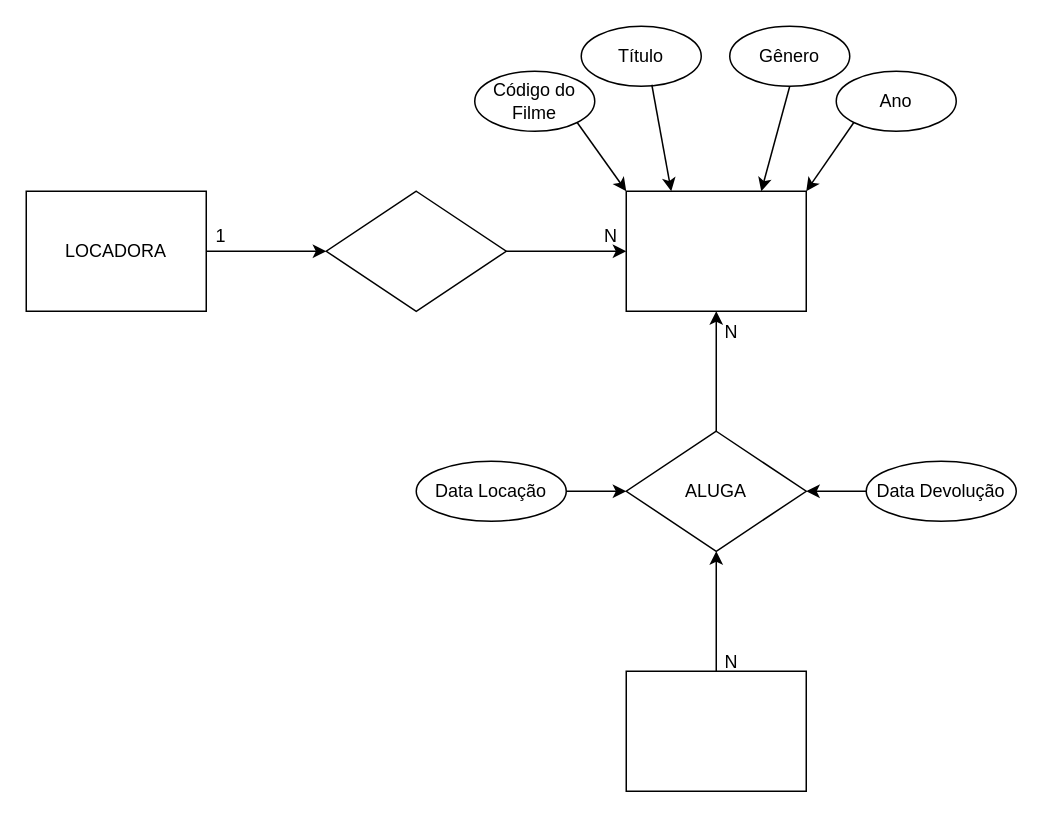
This 1043x818 diagram has some shape labels left out. The centre of each missing label's shape, as x and y in pixels:
"CLIENTE" goes at (x=715, y=730).
"FILME" goes at (x=715, y=250).
"POSSUI" goes at (x=415, y=250).
